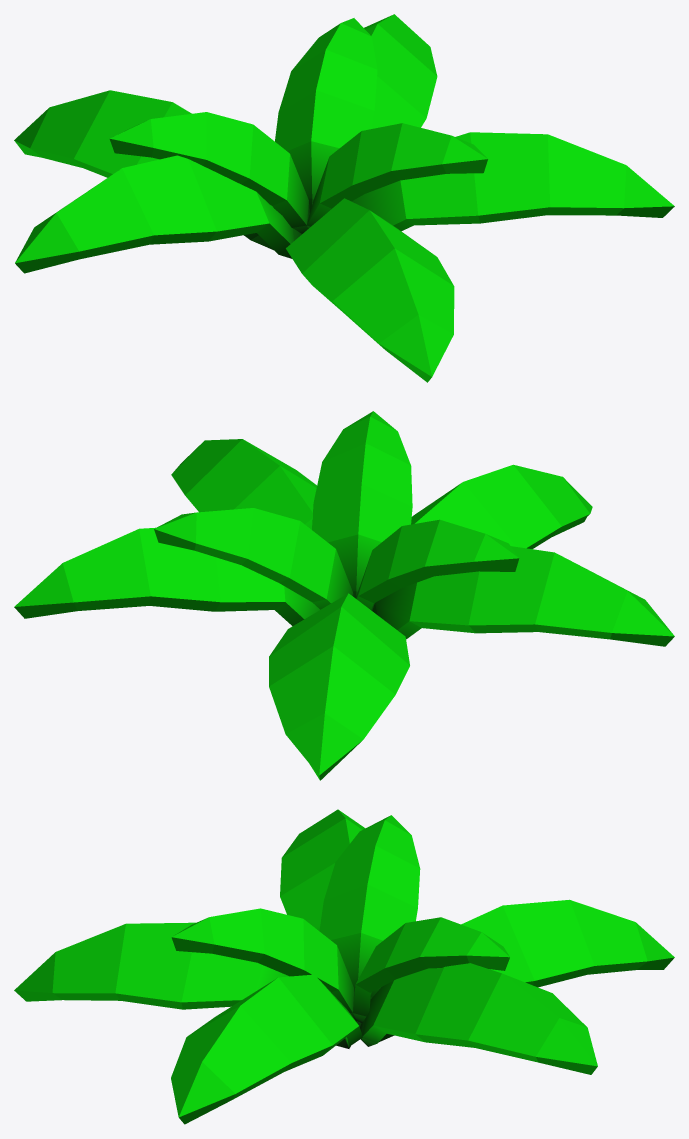
File: SM_FloorPlant_02.fbx
3 renders of one model, top to bottom at view 1: azimuth 30°, elevation 25°; view 2: azimuth 150°, elevation 25°; view 3: azimuth 270°, elevation 25°, orthographic. The views are drawn at different scales.
Parts seen in each view (by area): view 1: SM_FloorPlant_02; view 2: SM_FloorPlant_02; view 3: SM_FloorPlant_02.
Part boxes in pixels (x1,y1,x2,y2): SM_FloorPlant_02: (14,14,674,382); SM_FloorPlant_02: (14,411,674,780); SM_FloorPlant_02: (14,809,674,1124).
Size of the model in its own units: 187 by 50.73 by 194.
